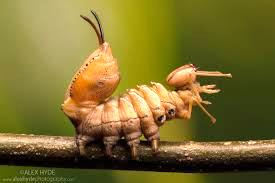Lobster Moth: (47, 30, 233, 161)
